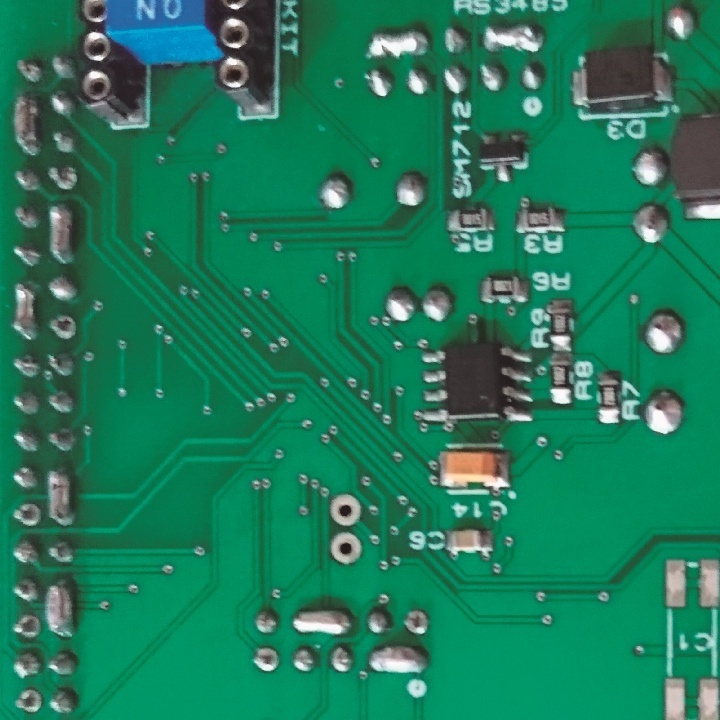F: (326, 529, 364, 566), (327, 490, 364, 527), (247, 643, 285, 677), (399, 606, 435, 638), (44, 160, 79, 190), (10, 610, 41, 640), (47, 311, 77, 341), (10, 500, 40, 529), (13, 686, 40, 712)
P: (363, 638, 433, 677), (44, 572, 79, 642), (364, 28, 432, 61), (8, 278, 41, 343), (479, 23, 548, 54), (290, 603, 353, 636), (46, 201, 77, 268), (44, 466, 76, 529), (13, 94, 41, 157)
